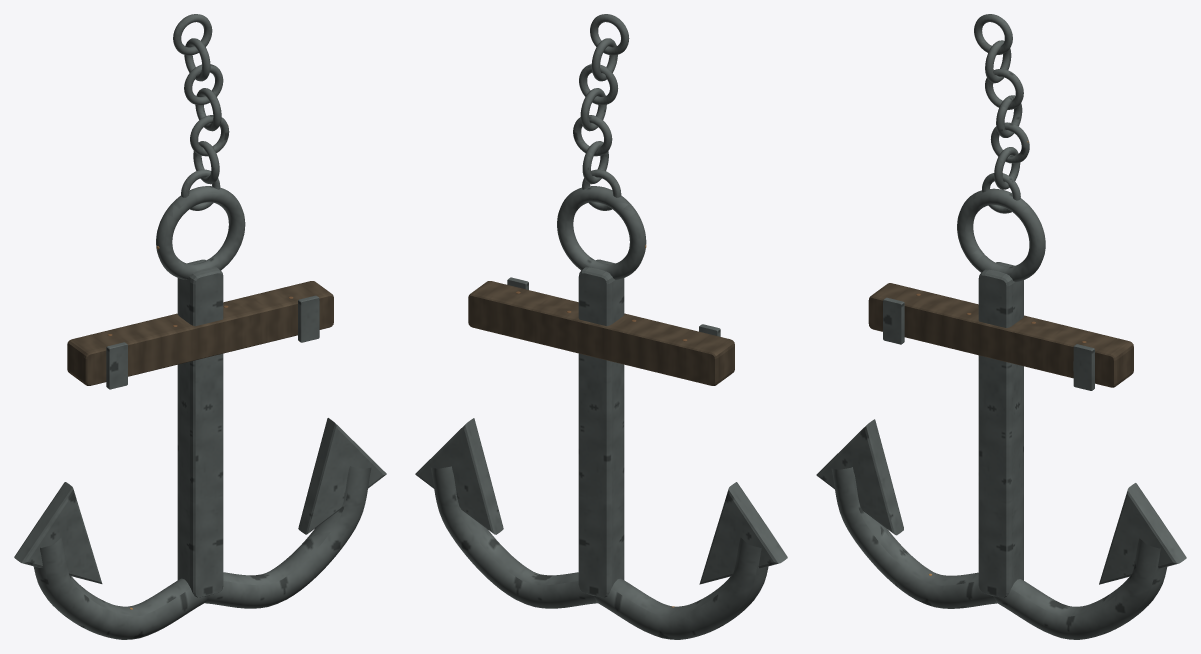
3 views of the same model, side by side, from view 1: azimuth 30°, elevation 25°; view 2: azimuth 150°, elevation 25°; view 3: azimuth 330°, elevation 25° (orthographic).
Visible parts, largest first — view 1: forged iron, heartwood; view 2: forged iron, heartwood; view 3: forged iron, heartwood.
Part boxes in pixels (<box>): forged iron: <box>14,14,386,639</box>; heartwood: <box>67,281,333,385</box>; forged iron: <box>415,14,787,639</box>; heartwood: <box>468,281,734,385</box>; forged iron: <box>816,14,1186,639</box>; heartwood: <box>868,283,1133,387</box>.
Size of the model in its own units: 0.8021 by 1.28 by 0.095.
Materials: 4 (2 with a texture image).
